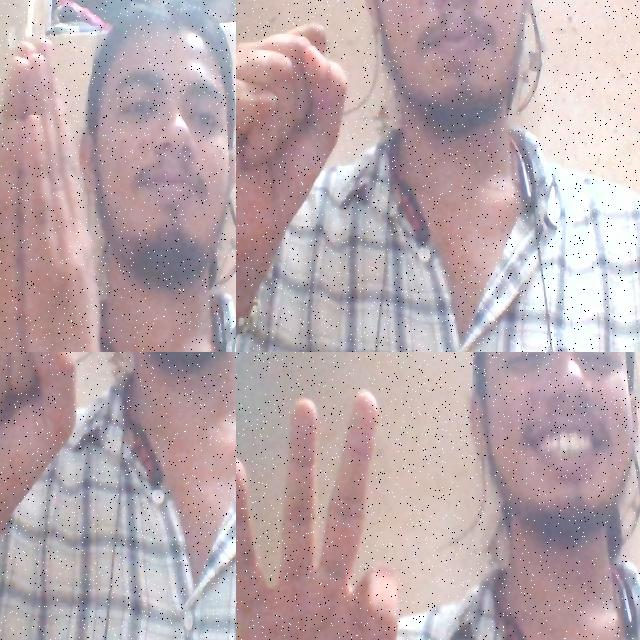No: (236, 16, 360, 282), (0, 352, 93, 559)
Please: (236, 383, 433, 640)
Thank You: (0, 32, 131, 352)
